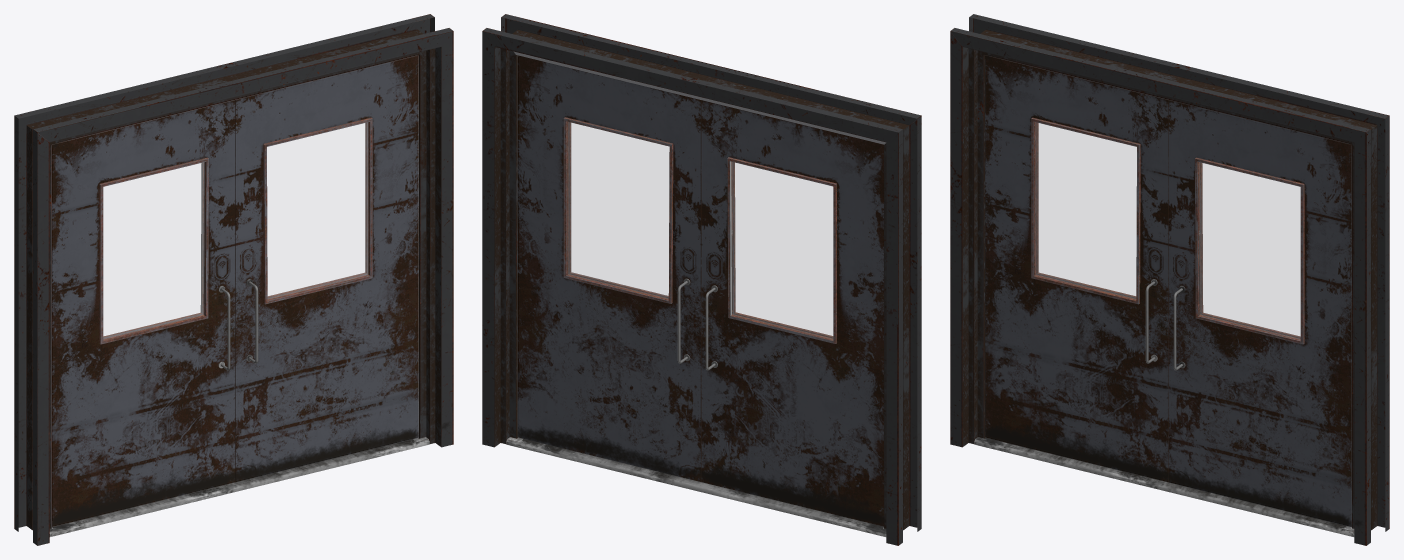
Rendered from door_metal_door_window.glb.
3 renders of one model, left to right at view 1: azimuth 30°, elevation 25°; view 2: azimuth 150°, elevation 25°; view 3: azimuth 330°, elevation 25°, orthographic.
Visible parts, largest first — view 1: Object_3, Object_4; view 2: Object_3, Object_4; view 3: Object_3, Object_4.
Part boxes in pixels (<box>): Object_3: <box>14,14,453,545</box>; Object_4: <box>103,123,368,339</box>; Object_3: <box>482,14,921,545</box>; Object_4: <box>568,122,832,338</box>; Object_3: <box>950,14,1389,545</box>; Object_4: <box>1035,123,1300,339</box>.
Size of the model in its own units: 376 by 357 by 36.45.
Materials: 2 (1 with a texture image).
